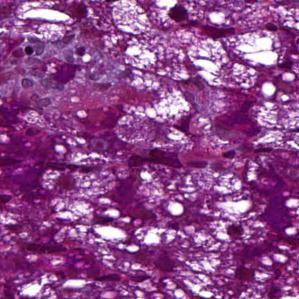ballooning: (219, 23, 294, 73), (210, 203, 276, 251)
